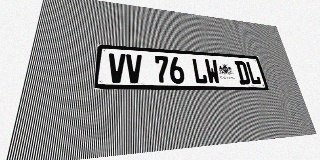6: (168, 57, 185, 84)
7: (154, 56, 170, 83)
D: (234, 61, 251, 85)
L: (191, 58, 208, 84), (245, 61, 262, 85)
V: (108, 53, 125, 83), (126, 54, 142, 83)
W: (204, 59, 221, 84)
